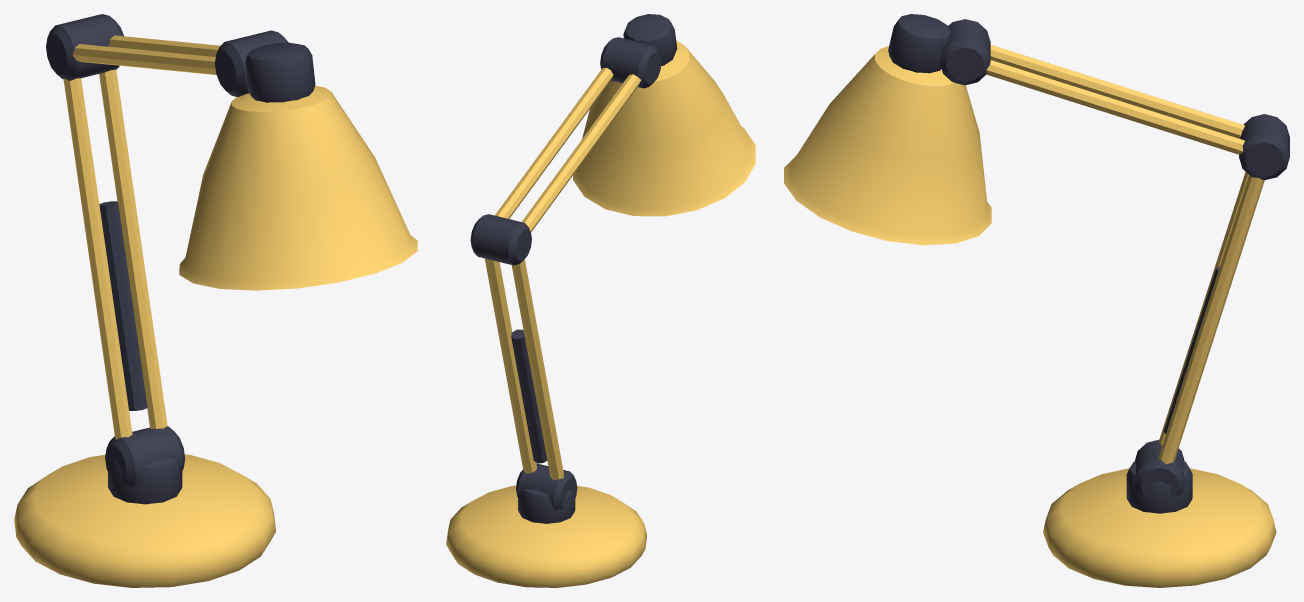
Rendered from desk_lamp.glb.
3 views of the same model, side by side, from view 1: azimuth 30°, elevation 25°; view 2: azimuth 150°, elevation 25°; view 3: azimuth 270°, elevation 25° (orthographic). The views are drawn at different scales.
Parts seen in each view (by area): view 1: lamp_body, charcoal; view 2: lamp_body, charcoal; view 3: lamp_body, charcoal.
Boxes of the visible parts, x1,y1,x2,y2 form: lamp_body: (14, 35, 417, 587); charcoal: (46, 14, 315, 504); lamp_body: (446, 40, 755, 587); charcoal: (470, 14, 677, 523); lamp_body: (784, 45, 1276, 587); charcoal: (888, 14, 1289, 513).
Size of the model in its own units: 0.156 by 0.3835 by 0.338.
